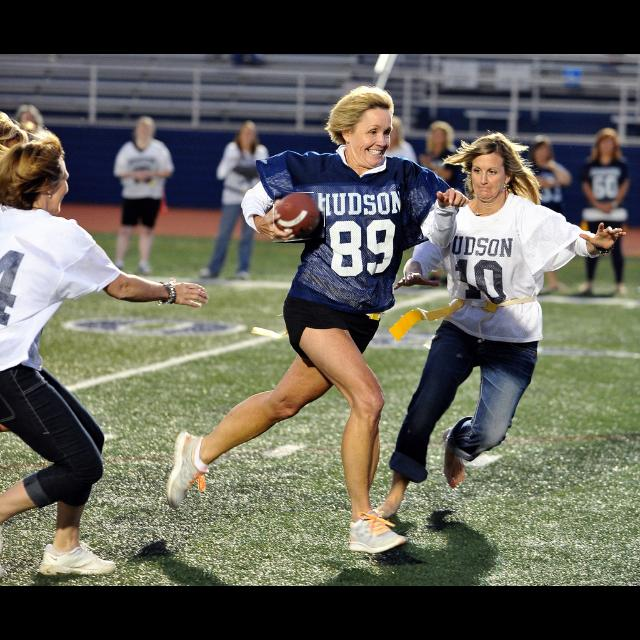Football: (274, 193, 326, 243)
